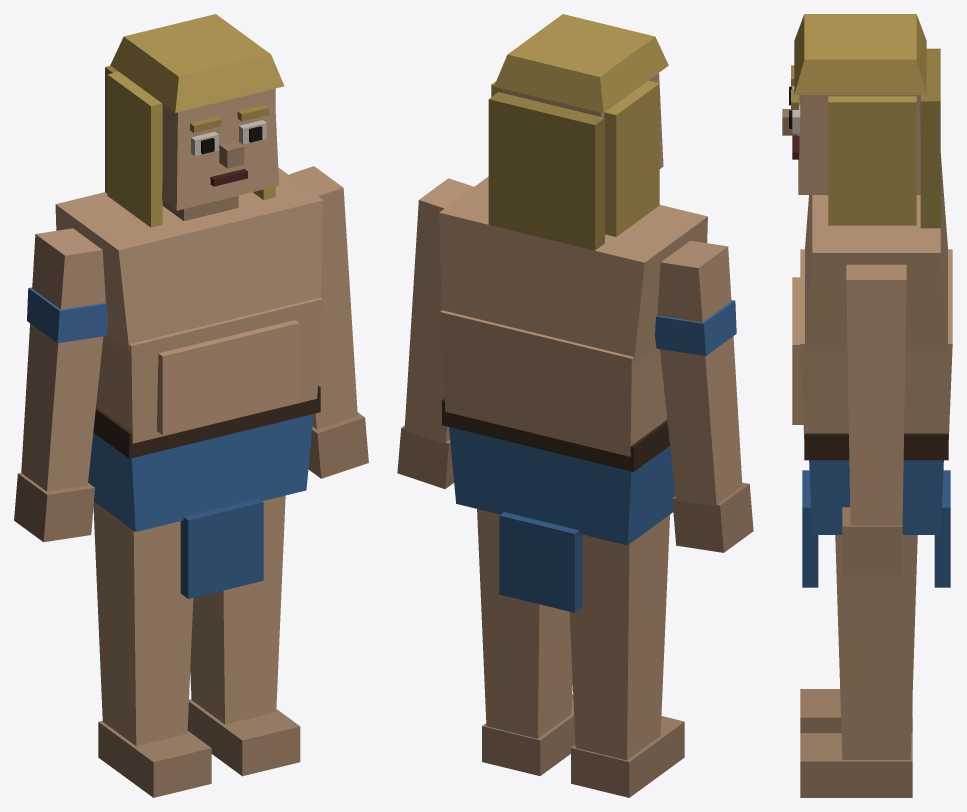
The model's file is fighter_B2.glb.
3 views of the same model, side by side, from view 1: azimuth 30°, elevation 25°; view 2: azimuth 150°, elevation 25°; view 3: azimuth 270°, elevation 25° (orthographic).
Visible parts, largest first — view 1: torso, head, hips, leg_R, arm_R, leg_L, arm_L; view 2: torso, head, hips, leg_R, arm_R, leg_L, arm_L; view 3: head, torso, leg_L, arm_L, hips, leg_R.
Boxes of the visible parts, x1,y1,x2,y2 form: torso: [55, 167, 323, 443]; head: [105, 14, 284, 227]; hips: [88, 385, 320, 598]; leg_R: [93, 502, 211, 797]; arm_R: [14, 228, 108, 542]; leg_L: [187, 495, 300, 776]; arm_L: [289, 166, 368, 478]; torso: [439, 176, 707, 456]; head: [488, 14, 668, 250]; hips: [442, 398, 675, 612]; leg_R: [569, 515, 684, 797]; arm_R: [655, 240, 753, 552]; leg_L: [477, 509, 575, 775]; arm_L: [397, 178, 473, 488]; head: [782, 14, 940, 228]; torso: [792, 154, 952, 439]; leg_L: [800, 535, 917, 797]; arm_L: [842, 264, 906, 575]; hips: [802, 433, 950, 587]; leg_R: [800, 689, 912, 732].
Size of the model in its own units: 0.9528 by 1.99 by 0.425.
